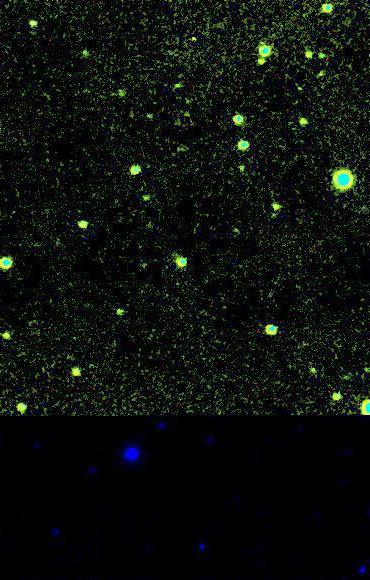star: (175, 25, 205, 55)
